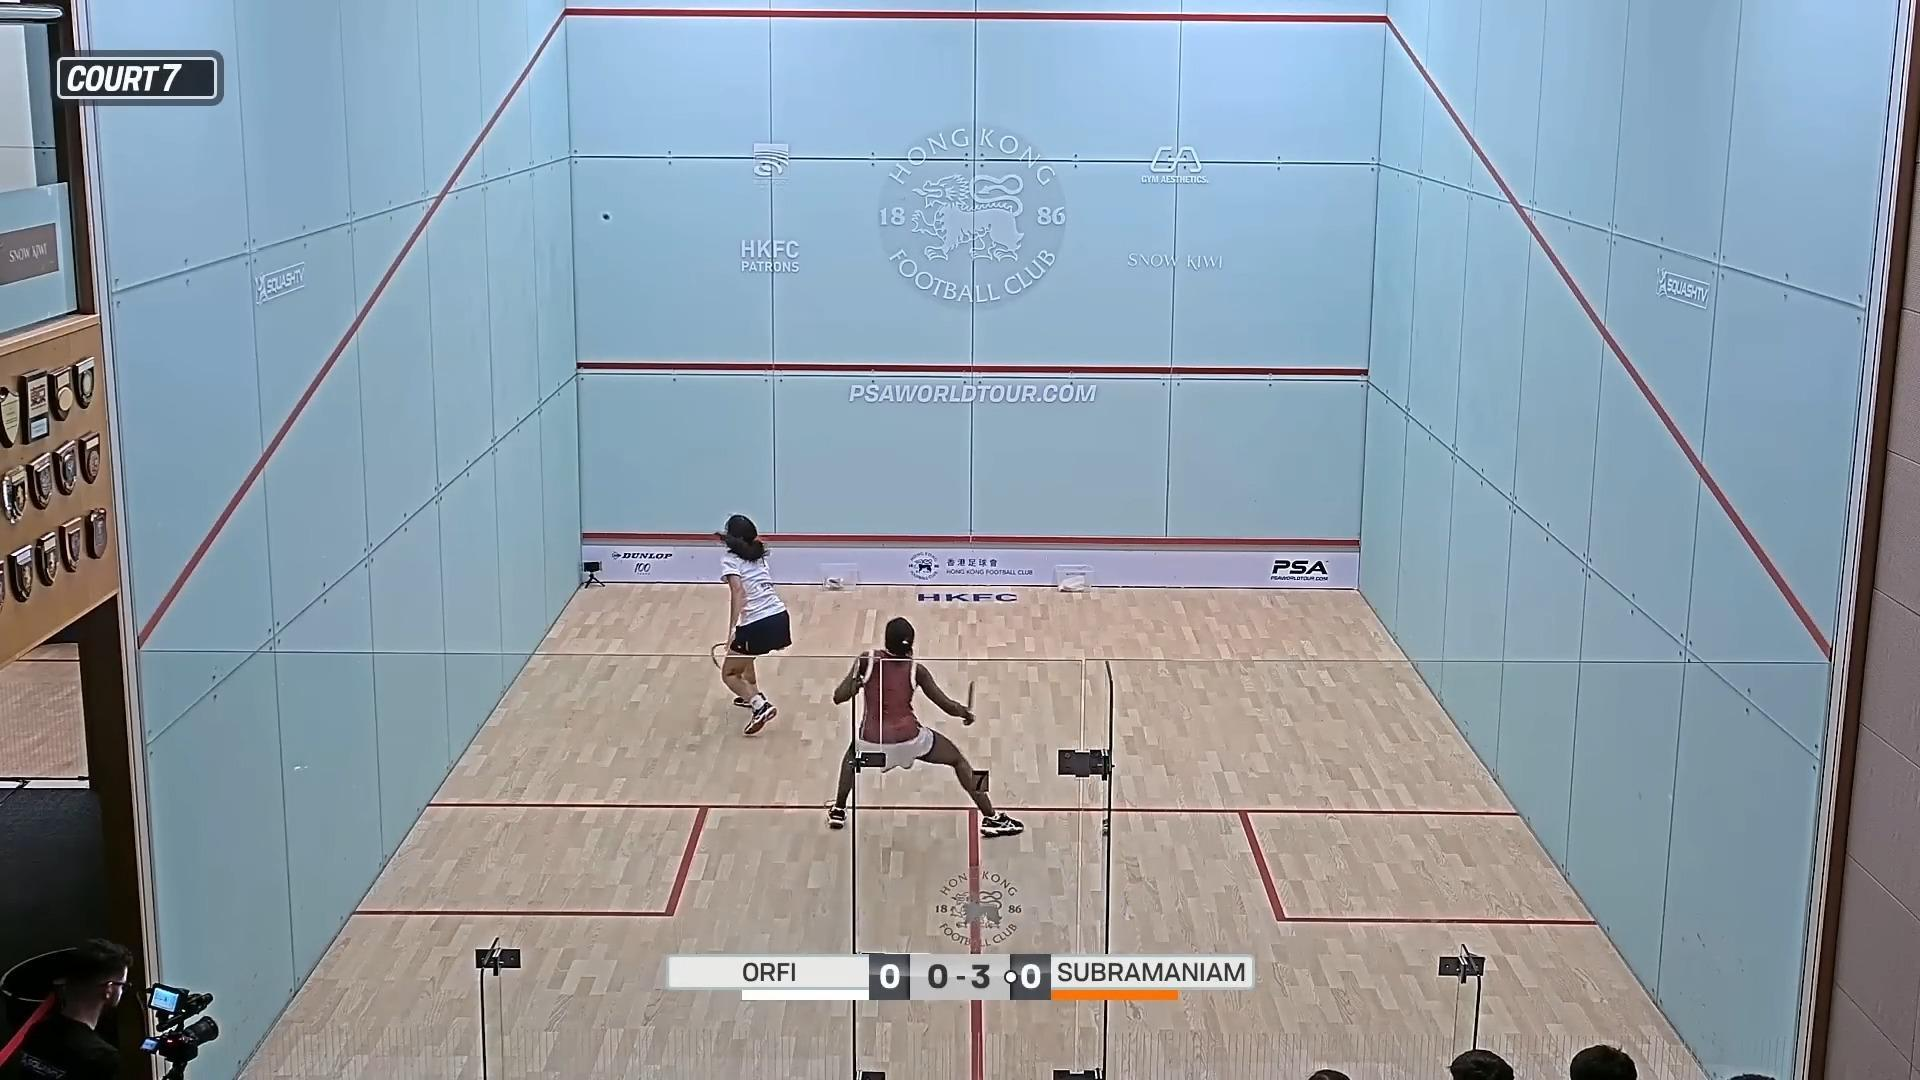Squash-Ball: (593, 204, 618, 227)
